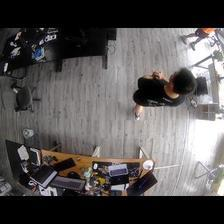normal: (132, 69, 194, 119)
